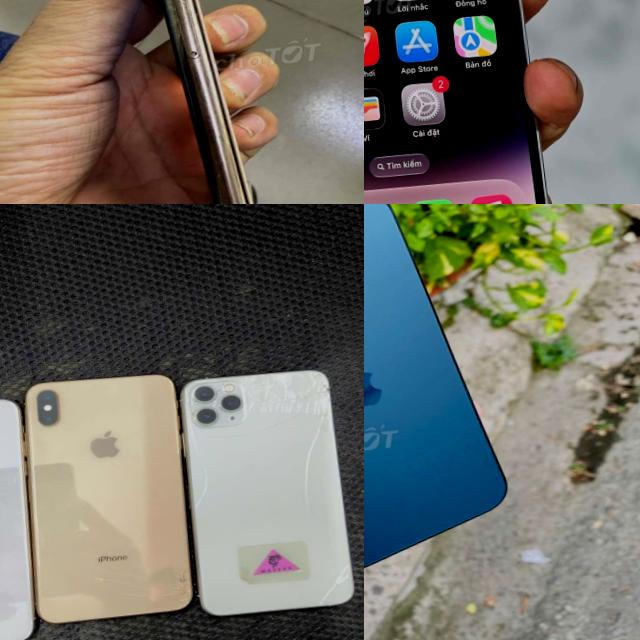gen_11: (178, 364, 358, 621)
gen_12_13: (364, 204, 521, 593)
gen_14: (364, 0, 560, 204)
gen_x_xs: (14, 368, 198, 626), (160, 0, 252, 204), (0, 394, 45, 640)
physical_damage: (92, 556, 193, 614), (245, 370, 332, 426), (188, 378, 248, 427), (300, 419, 339, 474), (0, 443, 22, 524), (308, 517, 350, 559), (297, 475, 335, 521), (187, 428, 220, 474), (318, 554, 357, 592), (192, 473, 225, 508), (311, 590, 338, 608)
scratch: (208, 167, 230, 181), (168, 0, 193, 12)
